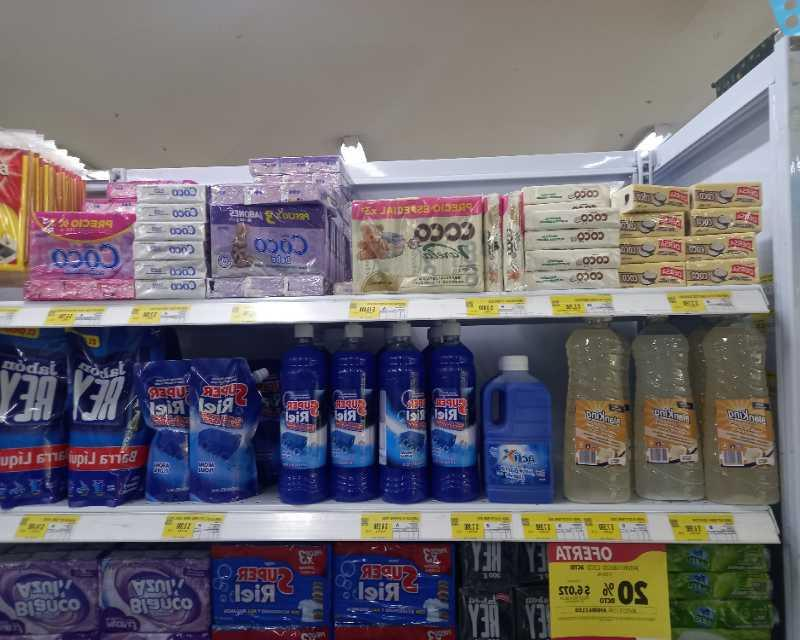ACTIX-AZUL-BOTELLA-950_1: (481, 351, 559, 504)
SUPER-RIEL-AZUL-BOTELLA-925_50: (275, 325, 329, 508), (426, 324, 478, 504), (378, 324, 428, 505), (330, 324, 380, 503)
SUPER-RIEL-AZUL-DOY-PACK-1600_51: (188, 356, 272, 503), (137, 356, 200, 503)
